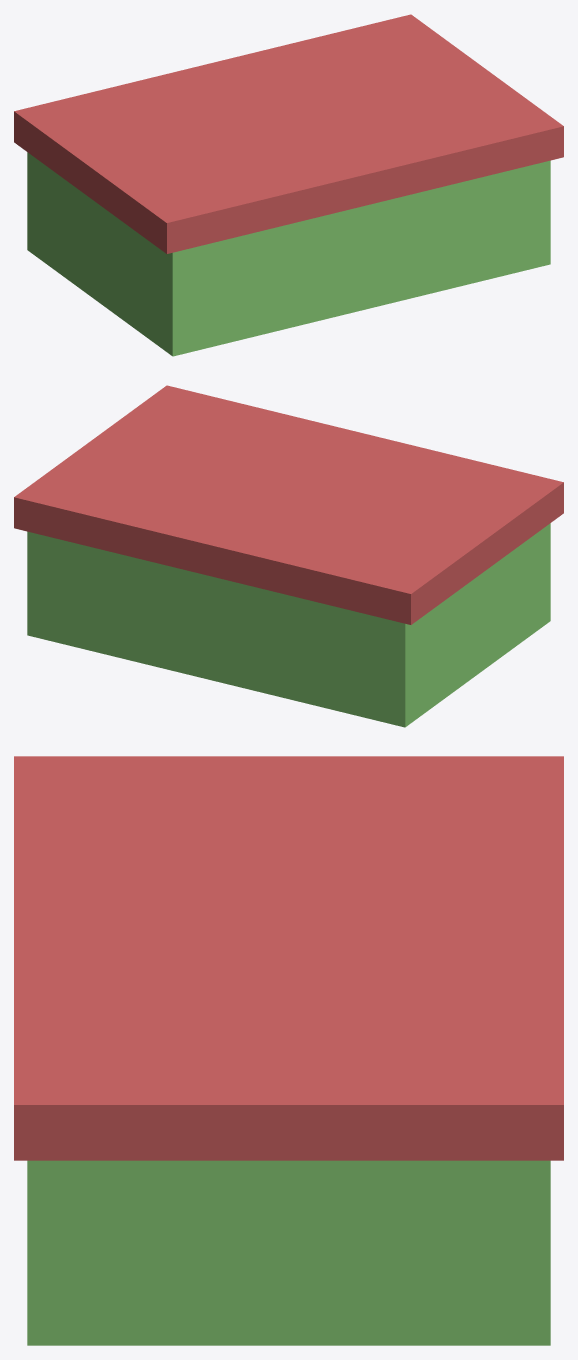
Rendered from ShoeBox.fbx.
The picture shows the model from 3 angles, top to bottom: view 1: azimuth 30°, elevation 25°; view 2: azimuth 150°, elevation 25°; view 3: azimuth 270°, elevation 25°; orthographic projection. The views are drawn at different scales.
Parts seen in each view (by area): view 1: caixa sapato; view 2: caixa sapato; view 3: caixa sapato.
Boxes of the visible parts, x1=… form: caixa sapato: x1=14, y1=14, x2=563, y2=356; caixa sapato: x1=14, y1=385, x2=563, y2=727; caixa sapato: x1=14, y1=756, x2=563, y2=1345.
Bounding box in the file's own units: 300 × 100 × 200.
